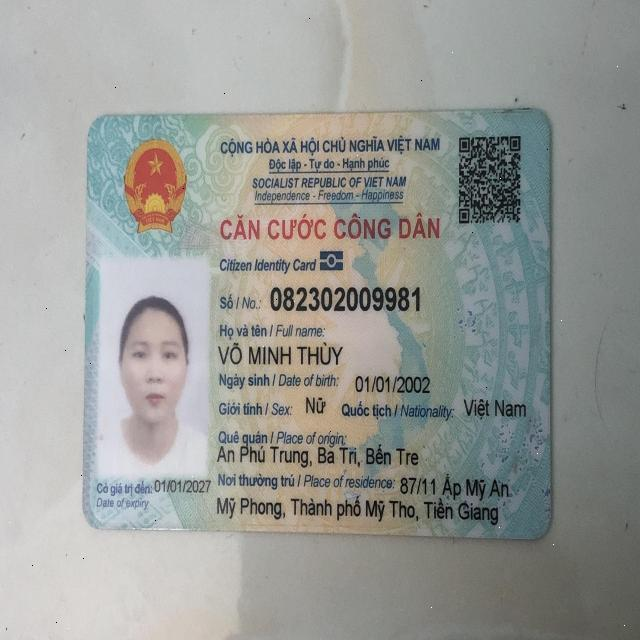current_place: (216, 494, 500, 526), (397, 473, 510, 498)
dob: (354, 372, 439, 400)
expire_date: (151, 474, 214, 497)
gender: (302, 392, 328, 418)
id: (262, 278, 432, 317)
name: (218, 339, 345, 364)
nationality: (463, 393, 528, 422)
origin_place: (215, 441, 424, 468)
qr: (450, 130, 531, 228)
